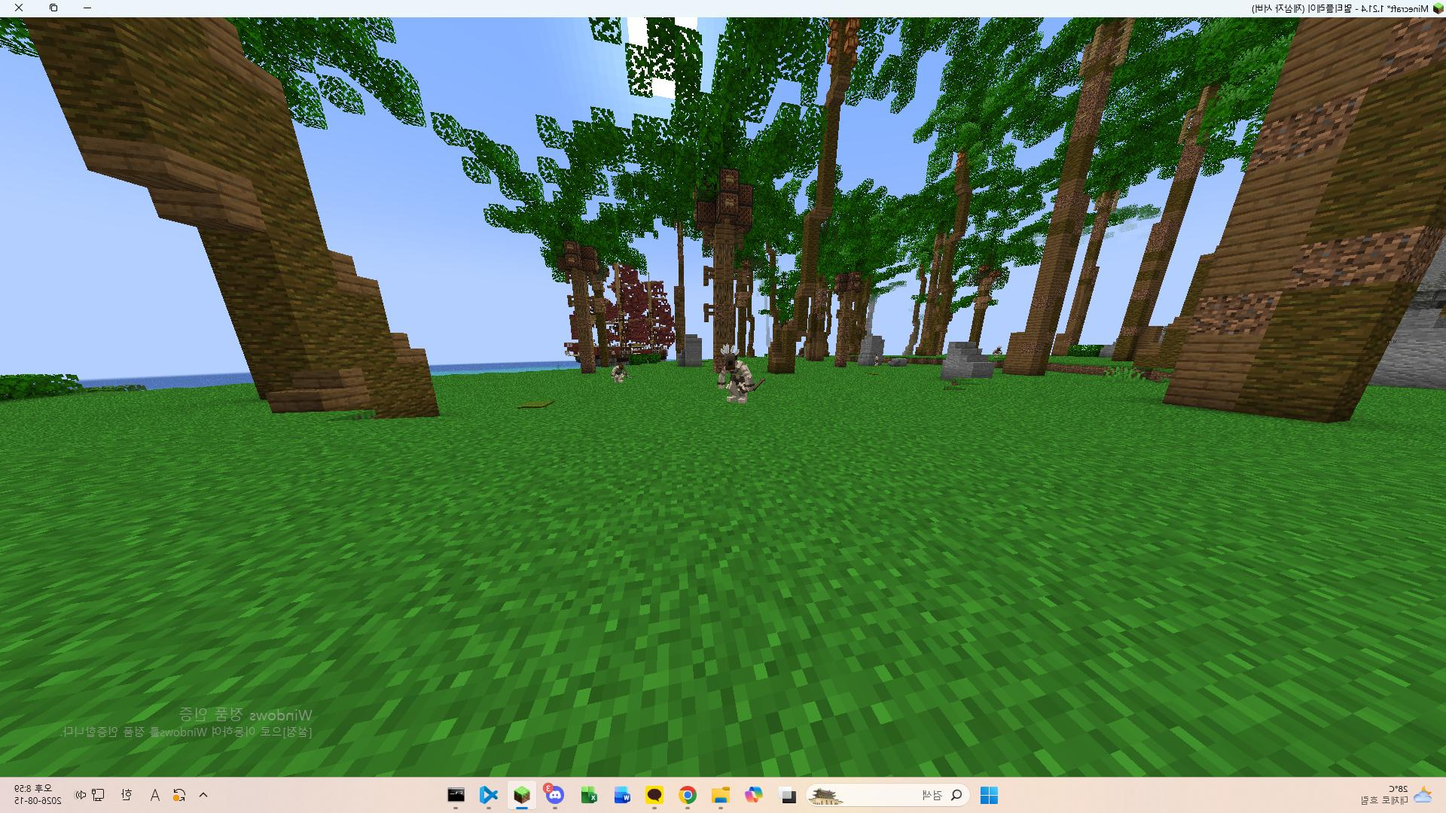bow_indian: (700, 336, 763, 414)
